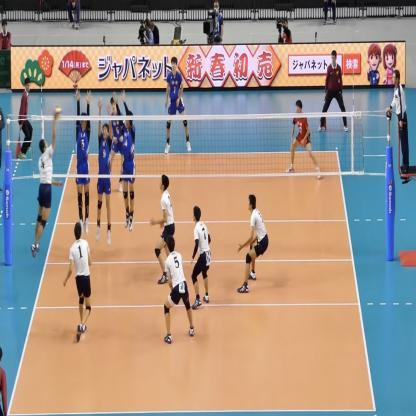spike: (28, 106, 64, 258)
